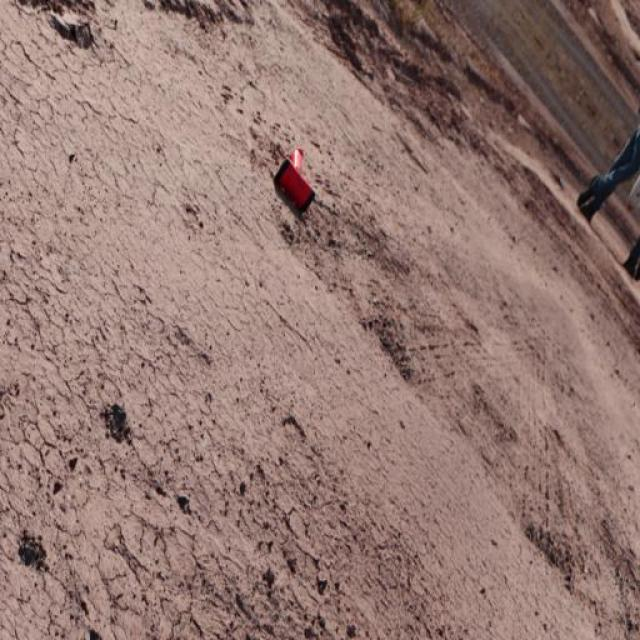mallet: (274, 145, 318, 213)
